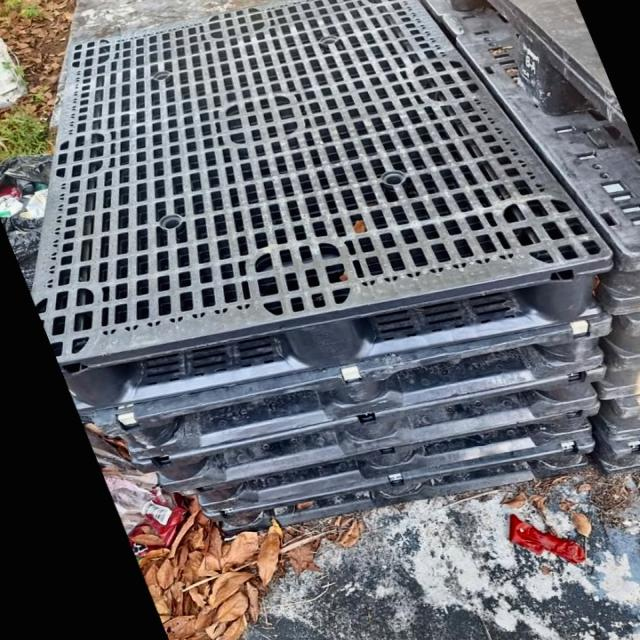non-igps: (26, 0, 624, 415), (82, 306, 626, 468), (420, 0, 640, 320), (125, 362, 615, 498), (171, 396, 614, 518), (196, 429, 602, 546), (446, 0, 640, 154)
